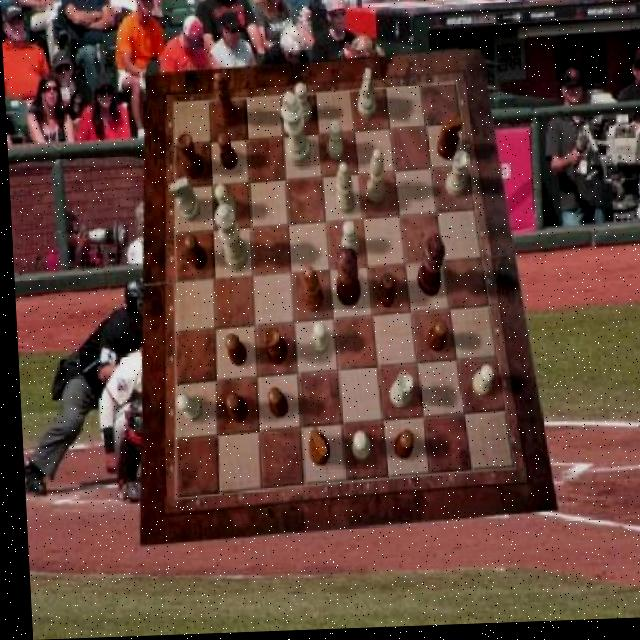bishop: (213, 73, 238, 130), (299, 268, 321, 314)
black-bishop: (413, 237, 445, 300)
black-king: (434, 120, 463, 164), (304, 429, 326, 468)
black-knight: (182, 234, 206, 271), (215, 135, 236, 173), (221, 393, 245, 425), (421, 324, 445, 356), (221, 335, 244, 368), (264, 389, 285, 421), (373, 276, 392, 311), (389, 433, 410, 463)
black-pawn: (331, 250, 358, 311)
black-queen: (176, 134, 203, 181), (260, 327, 284, 367)
black-rook: (333, 164, 355, 217), (364, 151, 384, 206)
white-bishop: (279, 93, 310, 171)
white-king: (168, 179, 200, 224), (356, 71, 375, 122)
white-knight: (212, 184, 235, 222), (468, 368, 492, 399), (293, 85, 311, 126), (173, 395, 199, 423), (324, 124, 342, 163), (337, 224, 356, 260), (307, 325, 326, 359), (346, 435, 366, 463)
white-pawn: (213, 206, 247, 273)
white-queen: (442, 154, 468, 201), (385, 375, 410, 411)
